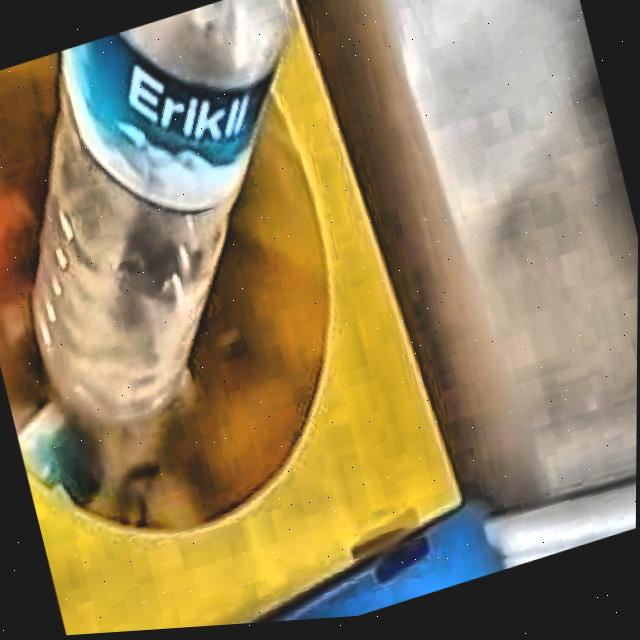plastic: (31, 0, 290, 428)
